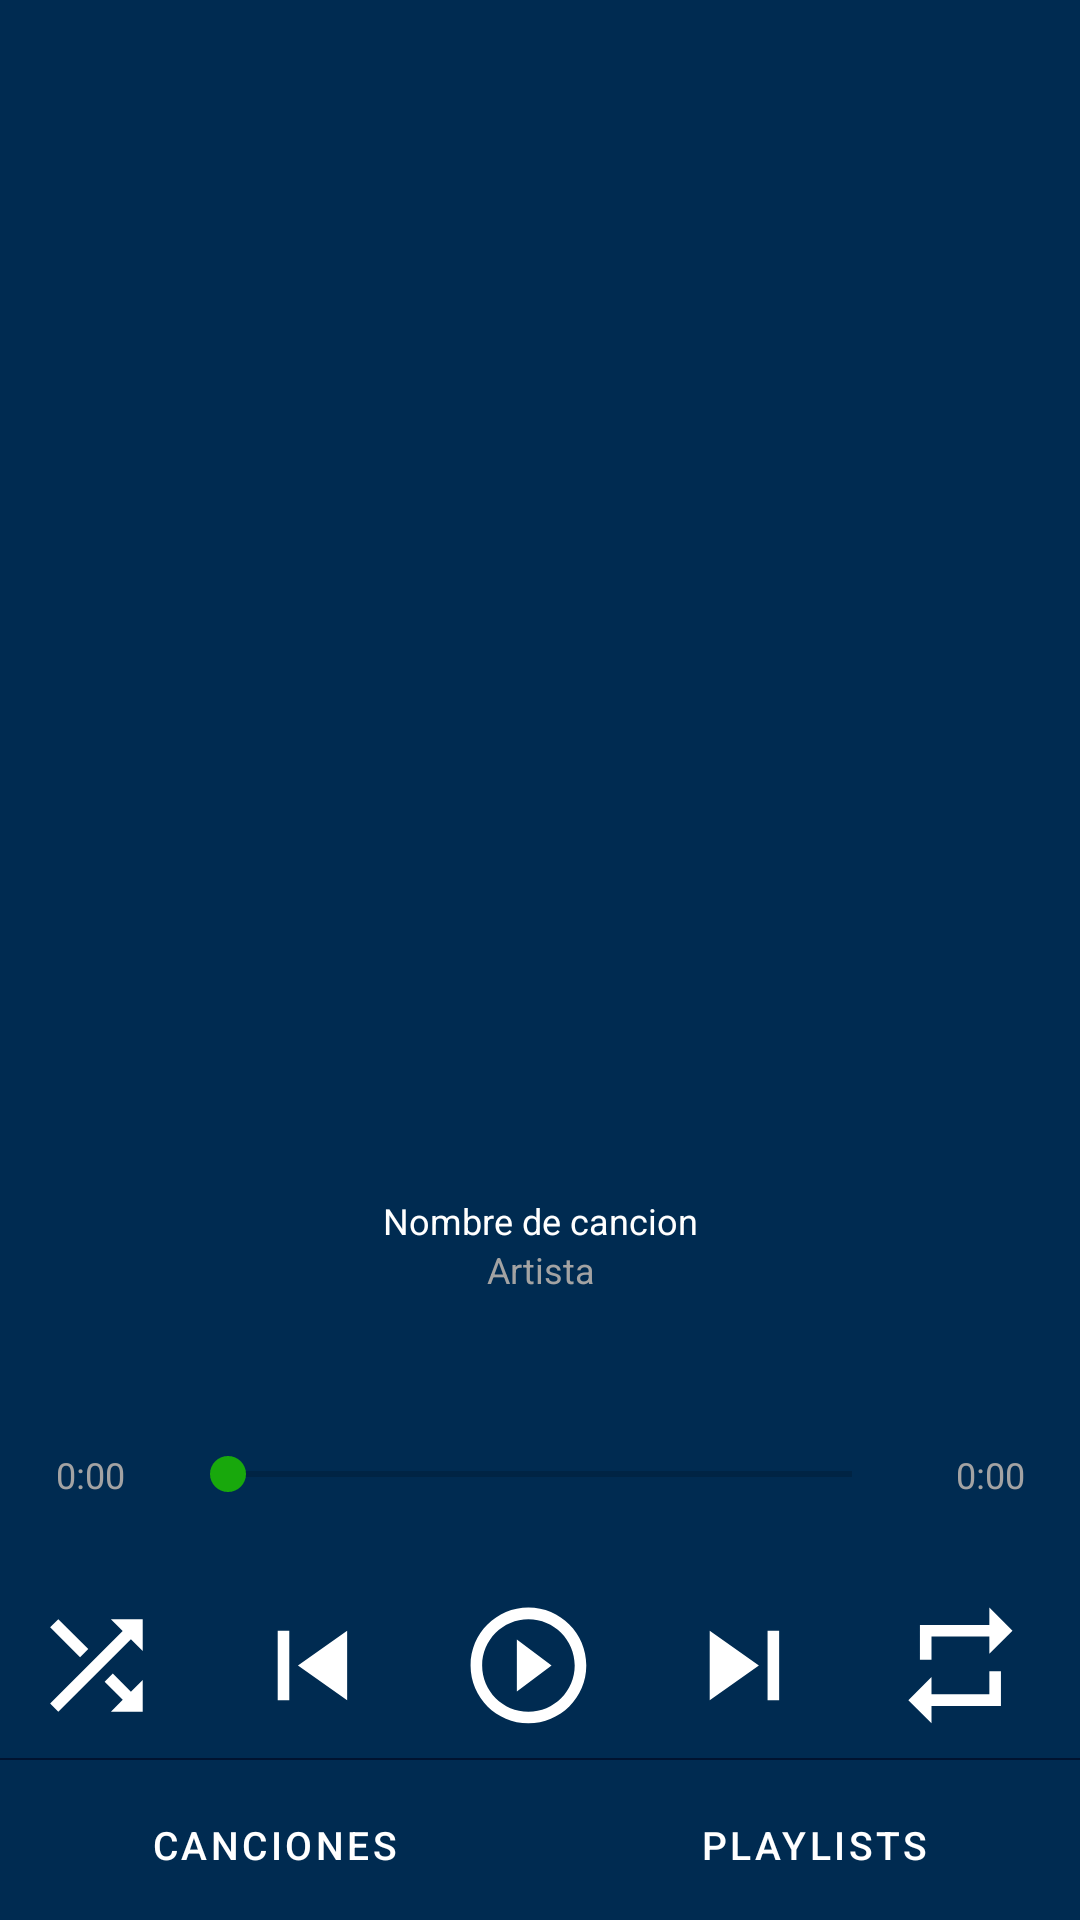

Point at icon controls on the screen. Image size 1080x1920, points as (x,y).
play circle: (528,1665)
repeat: (960,1665)
shuffle: (96,1665)
skip next: (744,1665)
skip previous: (312,1665)
